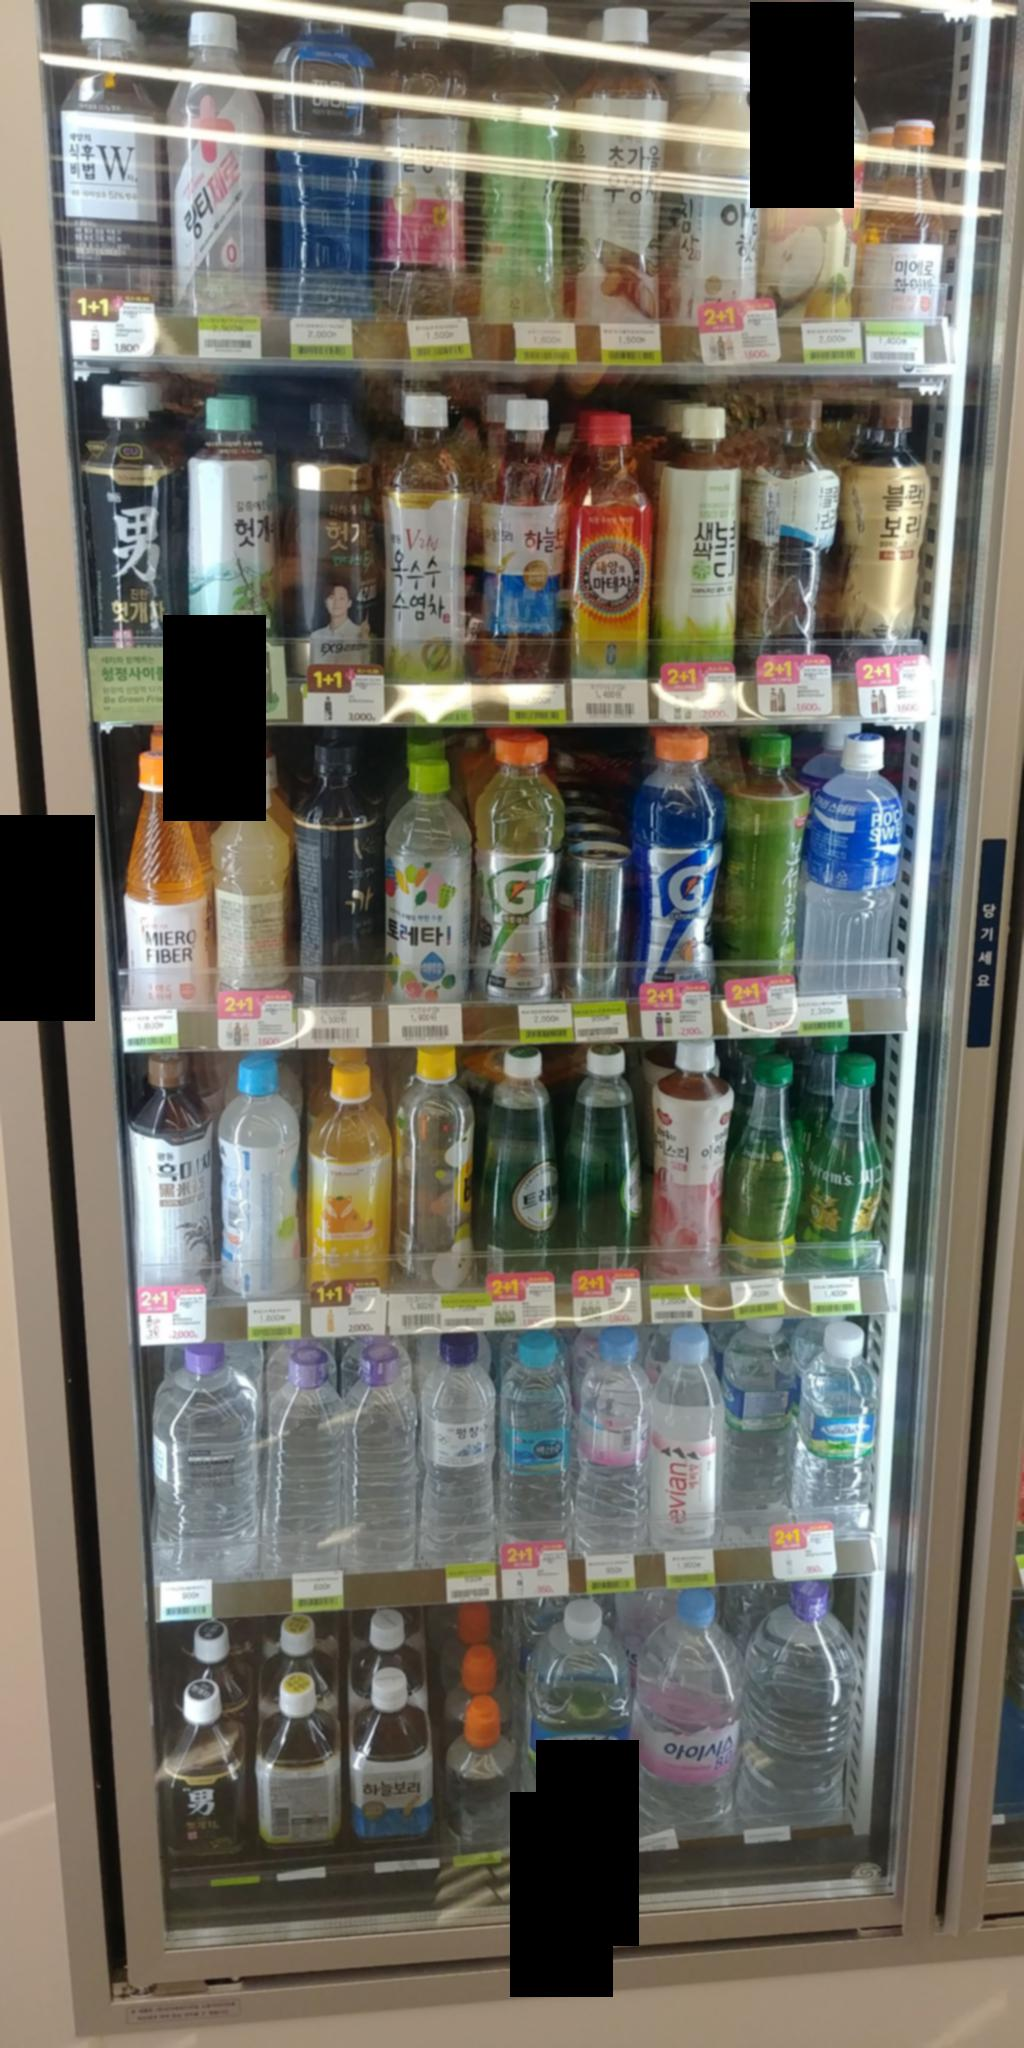gatorade_lemon: (469, 726, 566, 1002)
haneulbori: (470, 398, 577, 674)
heotgaecha: (80, 374, 191, 643)
oksususuyeomcha: (380, 388, 479, 683)
pocarisweat: (801, 733, 927, 991)
powerade_mountainblast: (256, 0, 380, 310)
toreta: (383, 755, 472, 1003)
